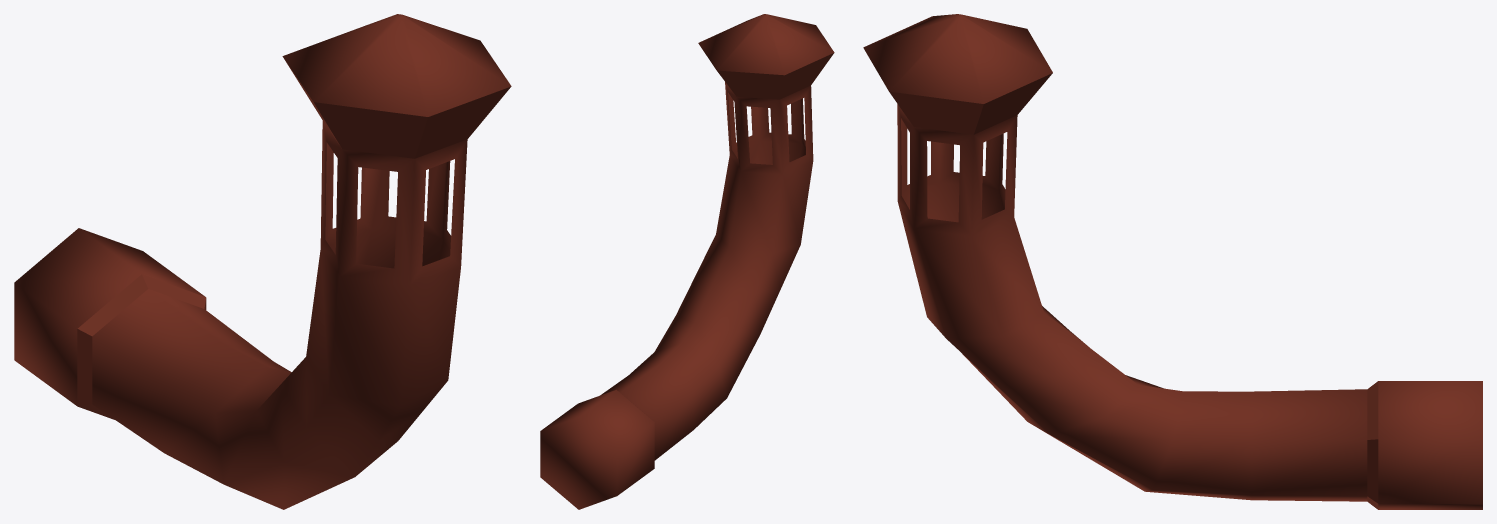
Rendered from lilleSkorsten2.fbx.
The picture shows the model from 3 angles, left to right: view 1: azimuth 30°, elevation 25°; view 2: azimuth 150°, elevation 25°; view 3: azimuth 270°, elevation 25°; orthographic projection. The views are drawn at different scales.
Parts seen in each view (by area): view 1: Normal skorsten.001; view 2: Normal skorsten.001; view 3: Normal skorsten.001.
Part boxes in pixels (x1=…): Normal skorsten.001: x1=14, y1=14, x2=511, y2=509; Normal skorsten.001: x1=540, y1=14, x2=834, y2=509; Normal skorsten.001: x1=863, y1=14, x2=1482, y2=509.
Bounding box in the file's own units: 31.46 × 90.86 × 103.
